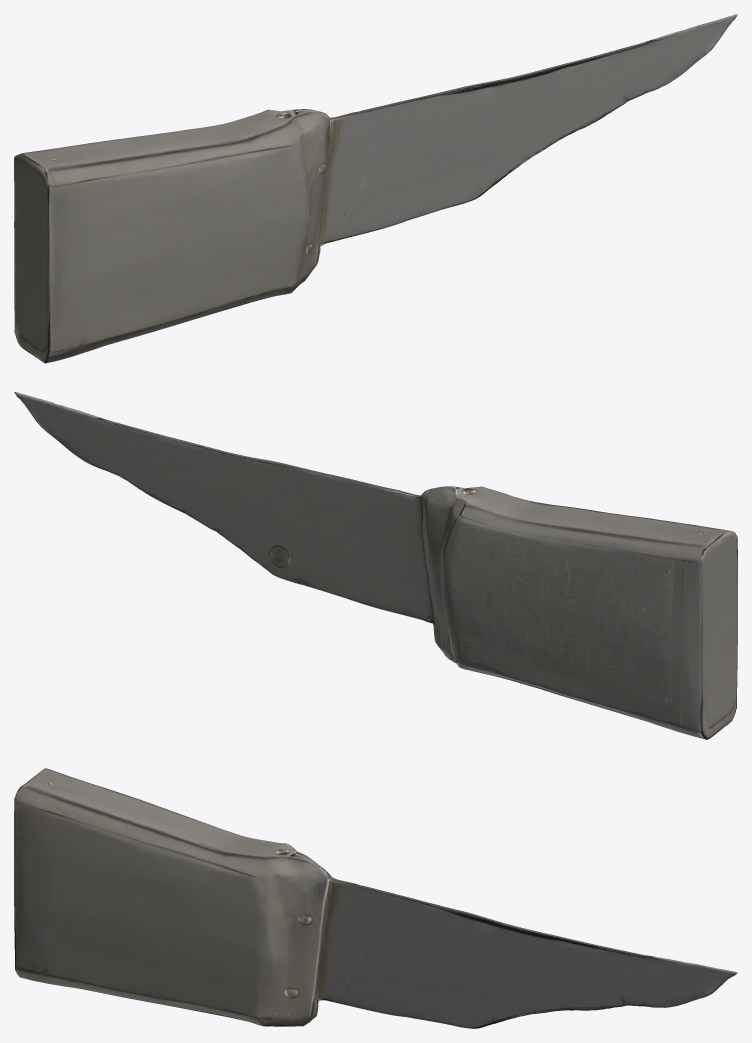
Rendered from Ice_Skating_Blade_0605210443_texture.glb.
3 renders of one model, top to bottom at view 1: azimuth 30°, elevation 25°; view 2: azimuth 150°, elevation 25°; view 3: azimuth 330°, elevation 25°, orthographic.
Bounding box in the file's own units: 2 × 0.5251 × 0.2115.
Materials: 1 (1 with a texture image).
